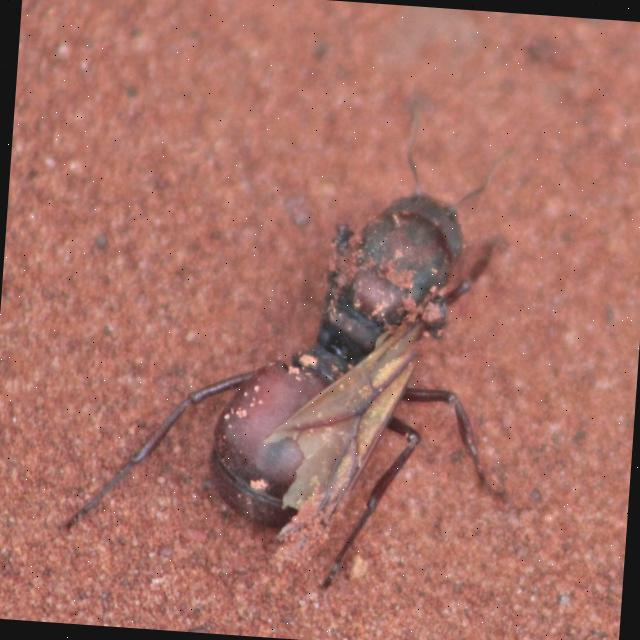Alive-Female-Alate: (53, 77, 550, 606)
